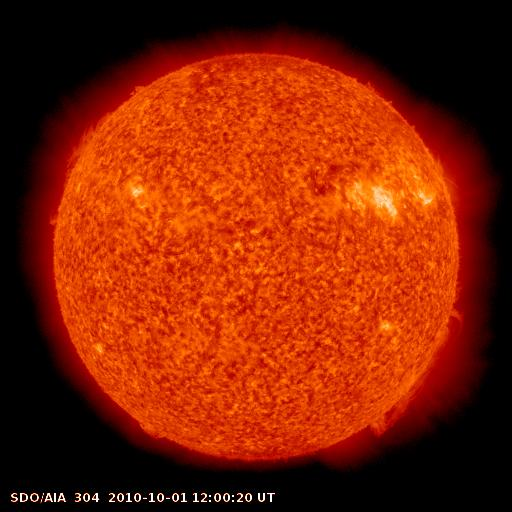prominence: (363, 304, 465, 444), (63, 108, 113, 185), (129, 413, 177, 451), (360, 69, 400, 112), (123, 75, 160, 105), (42, 200, 68, 240)
